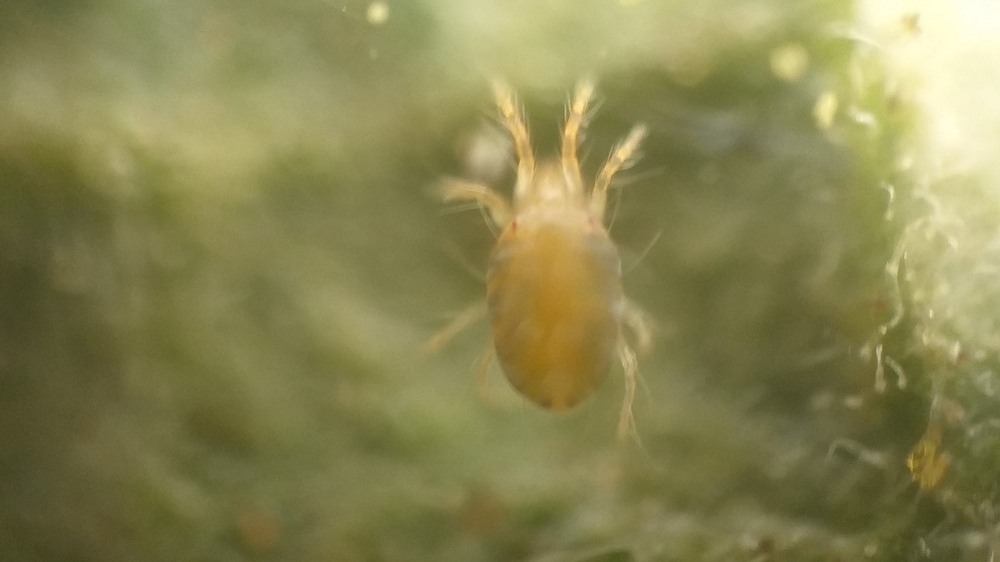Aracnido Rojo: (307, 123, 601, 503)
